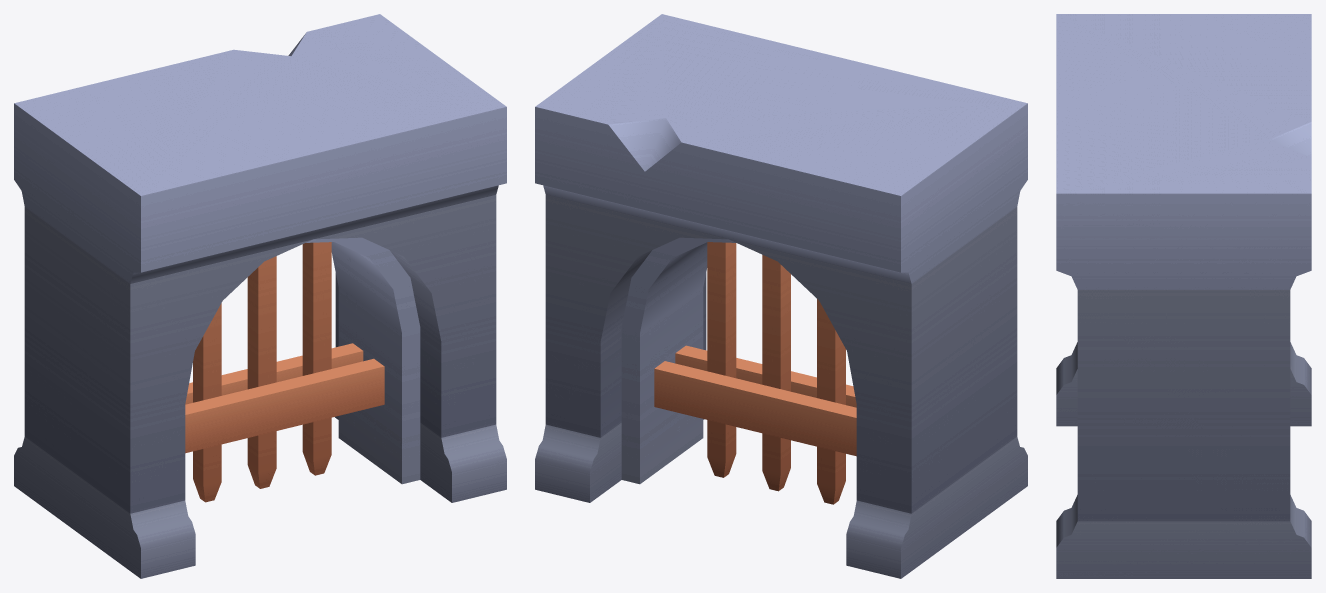
Rendered from wall-gate.glb.
The picture shows the model from 3 angles, left to right: view 1: azimuth 30°, elevation 25°; view 2: azimuth 150°, elevation 25°; view 3: azimuth 270°, elevation 25°; orthographic projection.
Parts seen in each view (by area): view 1: wall-gate, wall-gate.001; view 2: wall-gate, wall-gate.001; view 3: wall-gate.
Part boxes in pixels (x1,y1,x2,y2): wall-gate: (14, 14, 506, 578); wall-gate.001: (185, 242, 384, 502); wall-gate: (535, 14, 1027, 578); wall-gate.001: (654, 242, 856, 504); wall-gate: (1056, 14, 1311, 578).
Size of the model in its own units: 3 by 3 by 1.8.
1 material, 1 textured.
